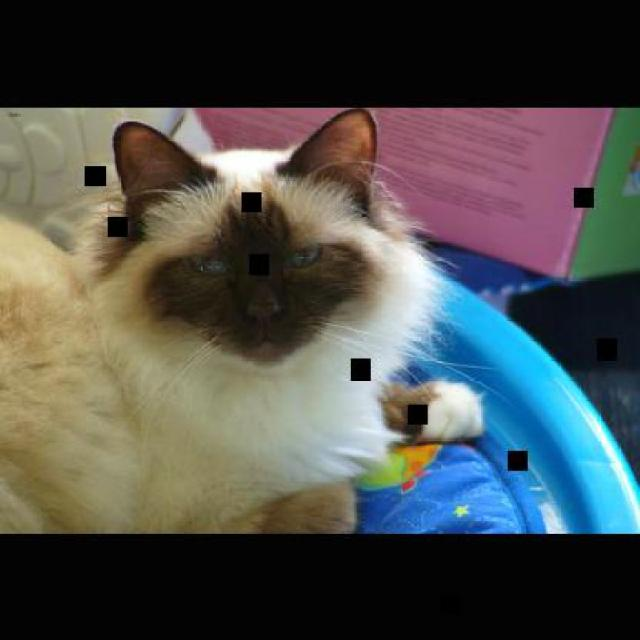unauthorized: (0, 107, 486, 536)
